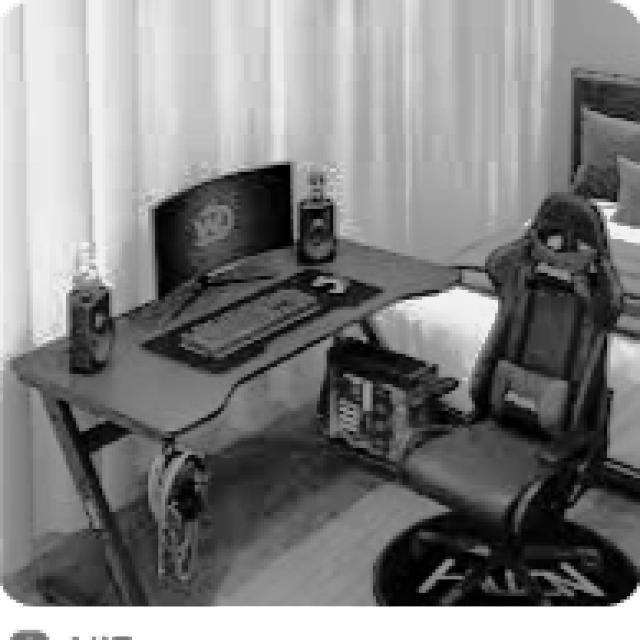book: (405, 174, 629, 629)
table: (6, 232, 462, 600)
